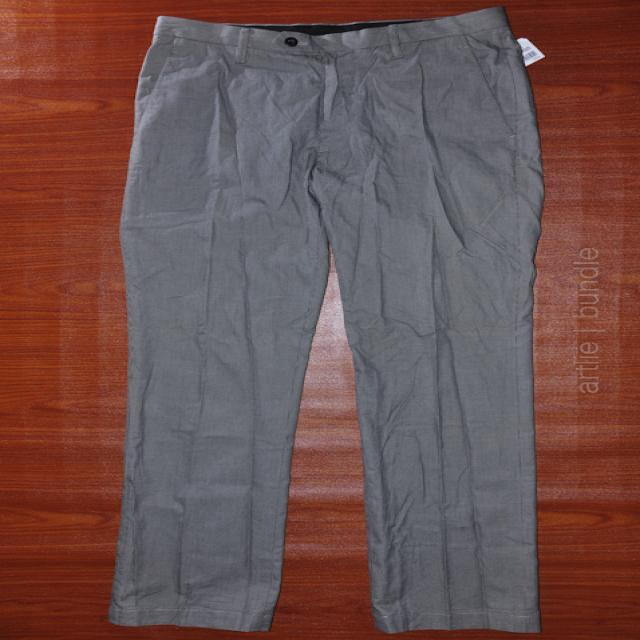long-pants: (113, 4, 547, 633)
